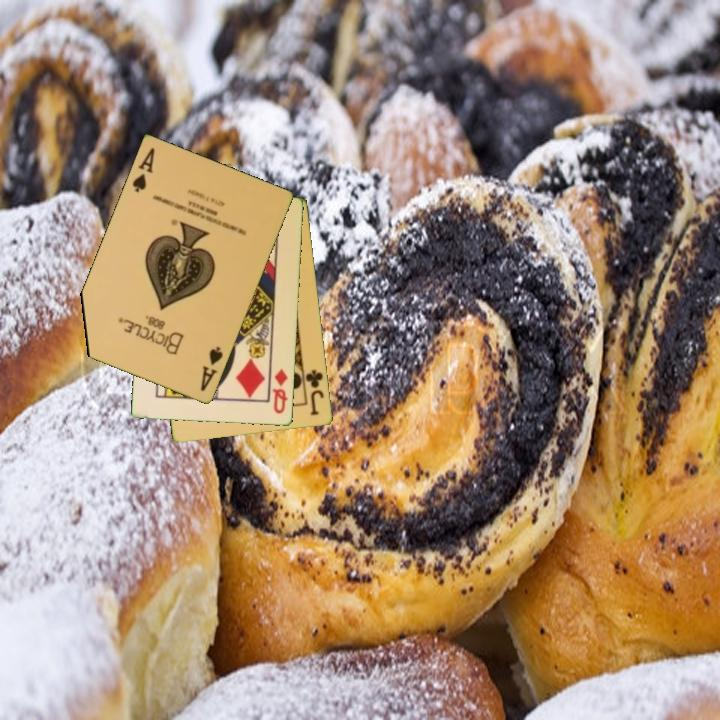As: (129, 144, 158, 196), (197, 343, 226, 394)
Jc: (300, 365, 327, 418)
Qd: (270, 365, 291, 417)
